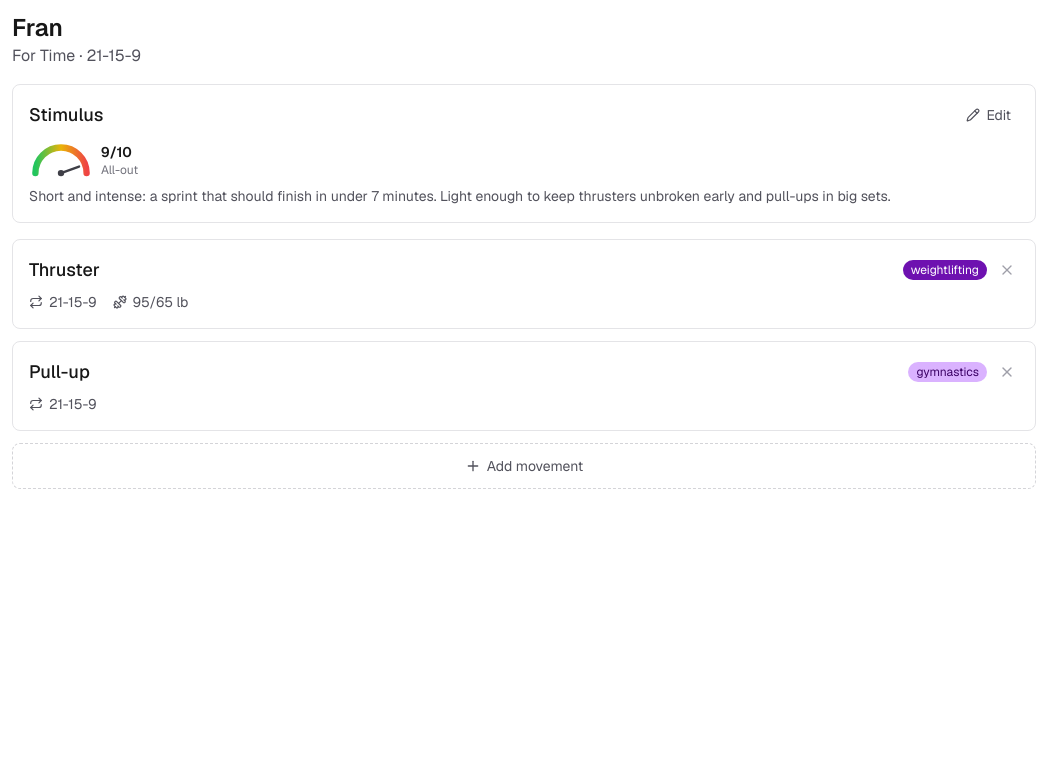
Test case: WorkoutPart › adds a movement
Click the button "Add movement": [524, 466] box [12, 443, 1036, 489]
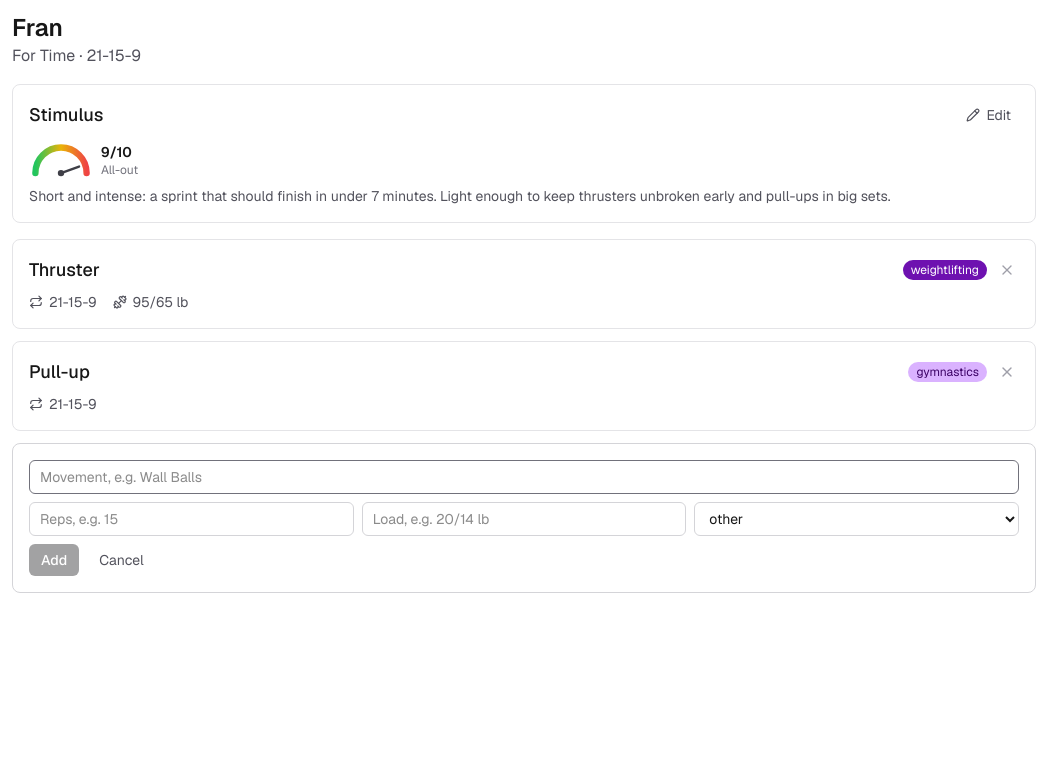
In the field with placeholder "Movement, e.g. Wall Balls": [524, 477] box [29, 460, 1019, 494], type "Wall Balls"
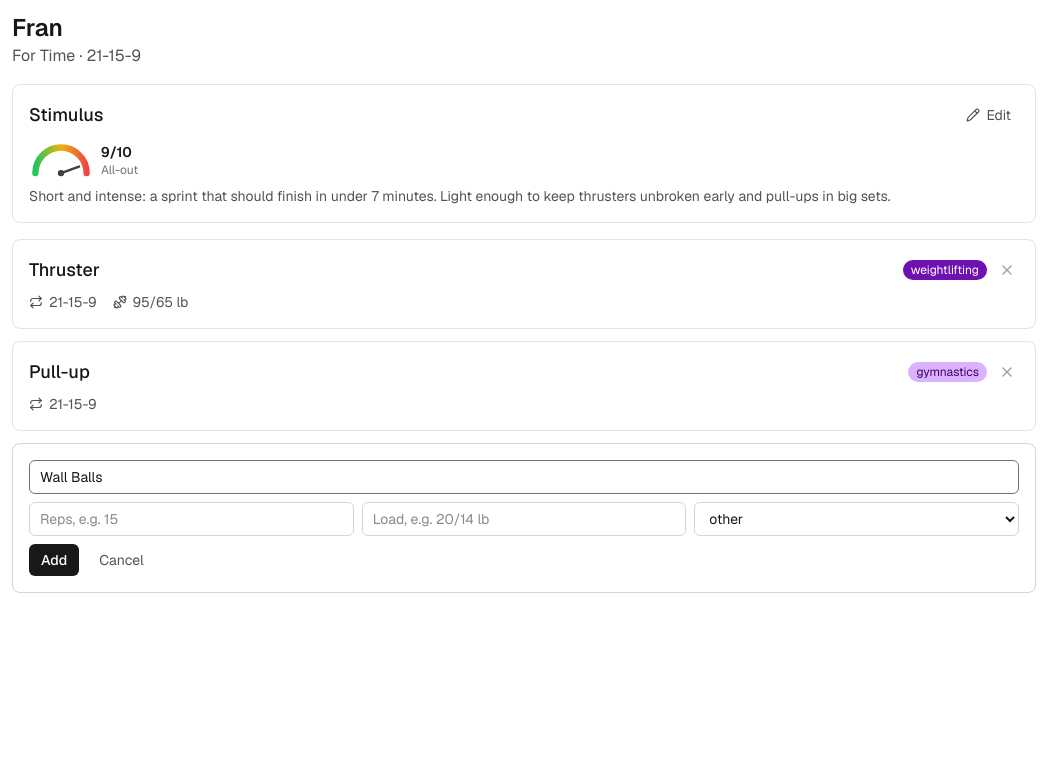
Click the button "Add": [54, 560] box [29, 544, 79, 576]
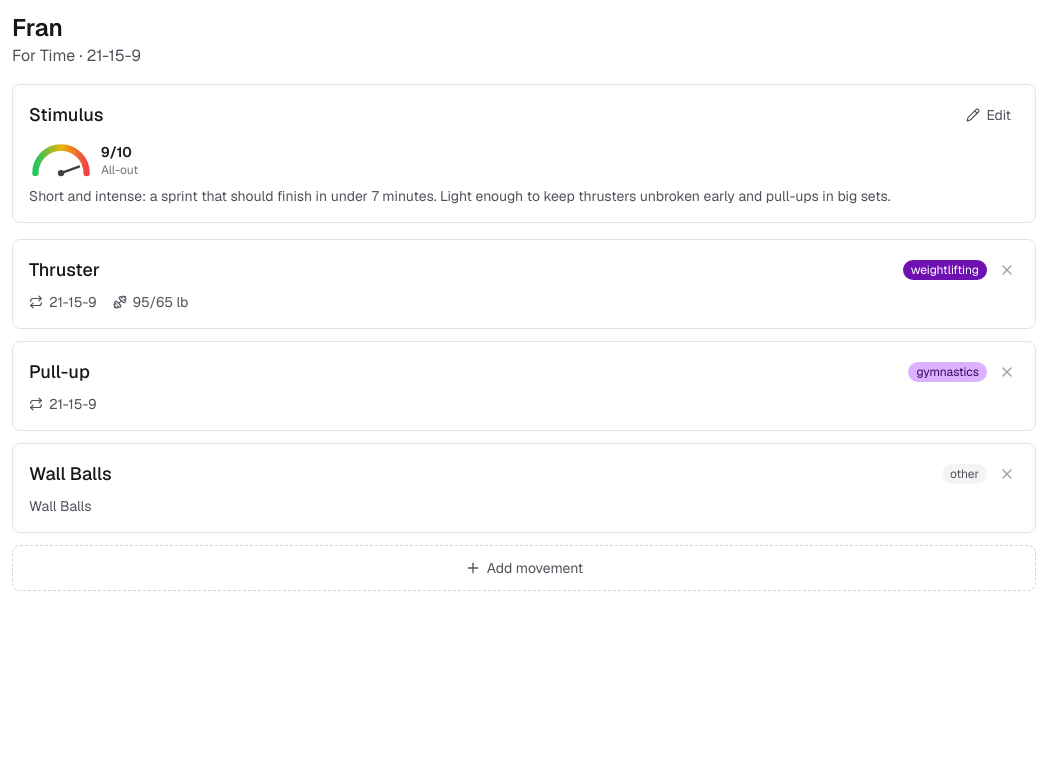
Now the number of list items is 3, box [12, 239, 1036, 329]; [12, 341, 1036, 431]; [12, 443, 1036, 533]
Now the heading "Wall Balls" is shown, box [29, 460, 112, 488]
